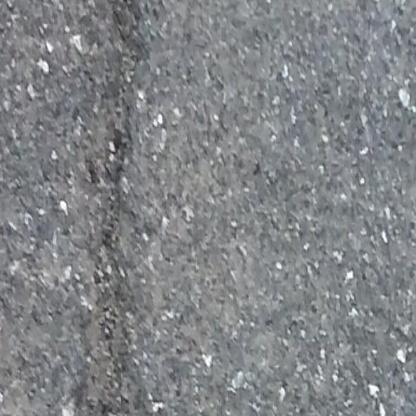Cracks: (89, 0, 149, 416)
